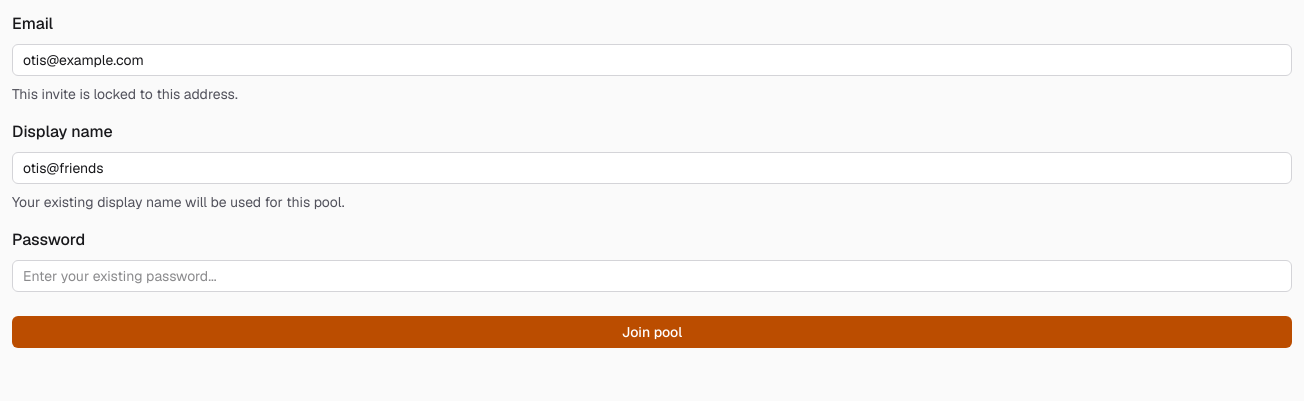
Test: auth forms › should join with an existing account using current password
Expected: the field labelled "Display name" holds "otis@friends", top-left (12, 152), bottom-right (1292, 184)
Expected: the text "Your existing display name will be used for this pool." is shown, top-left (12, 193), bottom-right (344, 211)
In the password field labelled "Password": (652, 276) top-left (12, 260), bottom-right (1292, 292), type "password1"
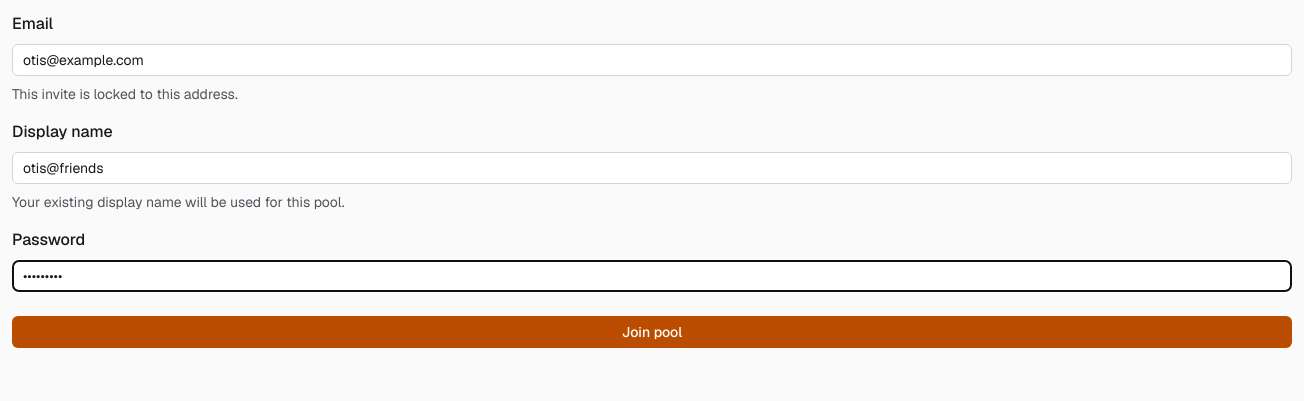
Click the button "Join pool": click(652, 332) top-left (12, 316), bottom-right (1292, 348)
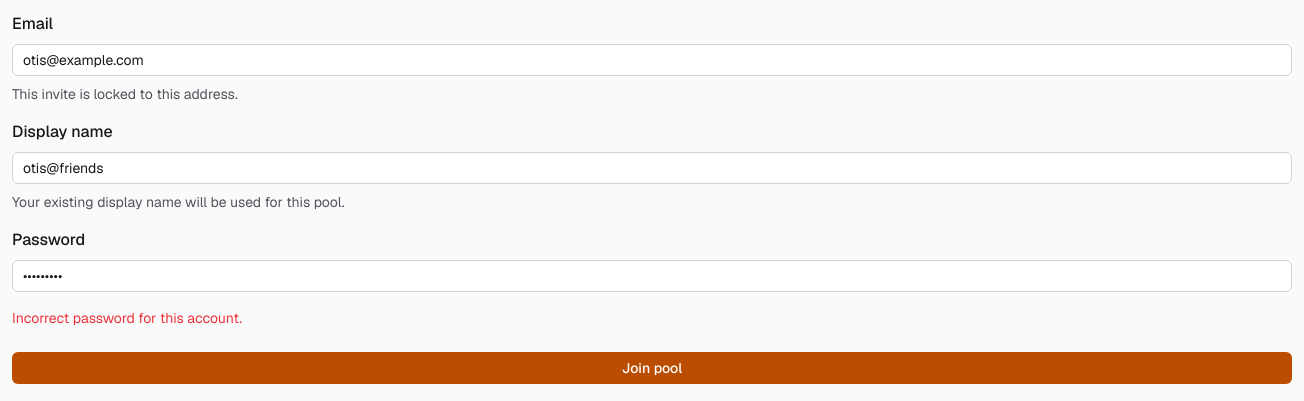
Expected: the message reads "Incorrect password for this account.", top-left (12, 309), bottom-right (242, 327)
